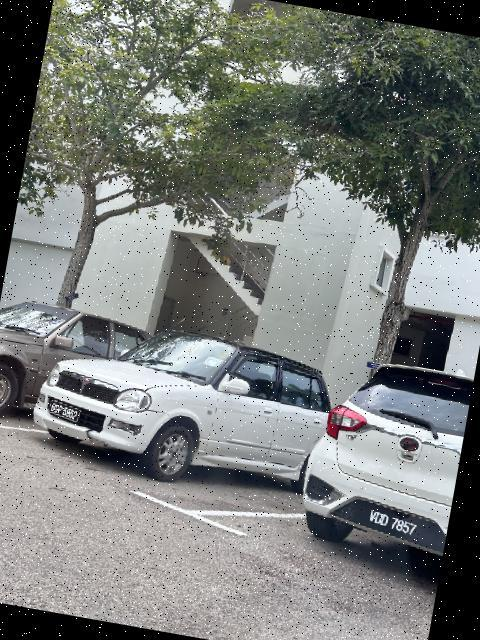BGP5952: (43, 398, 84, 426)
License_Plate: (343, 496, 436, 553), (43, 398, 84, 426)
VDD7857: (343, 496, 436, 553)
car: (27, 303, 362, 513), (294, 339, 477, 568), (1, 287, 167, 447)
